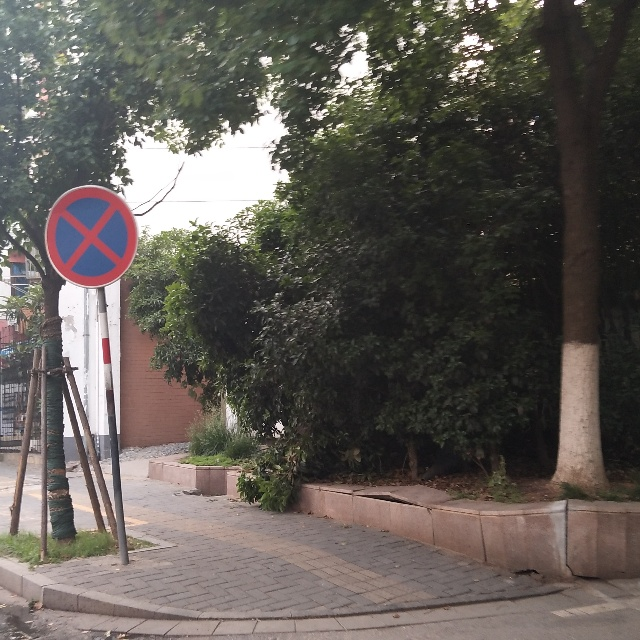stop: (42, 183, 140, 288)
